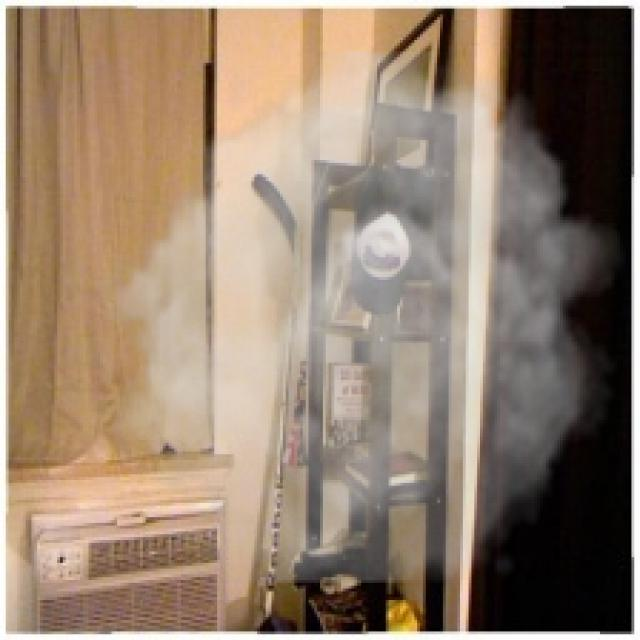Smoke: (94, 51, 626, 583)
